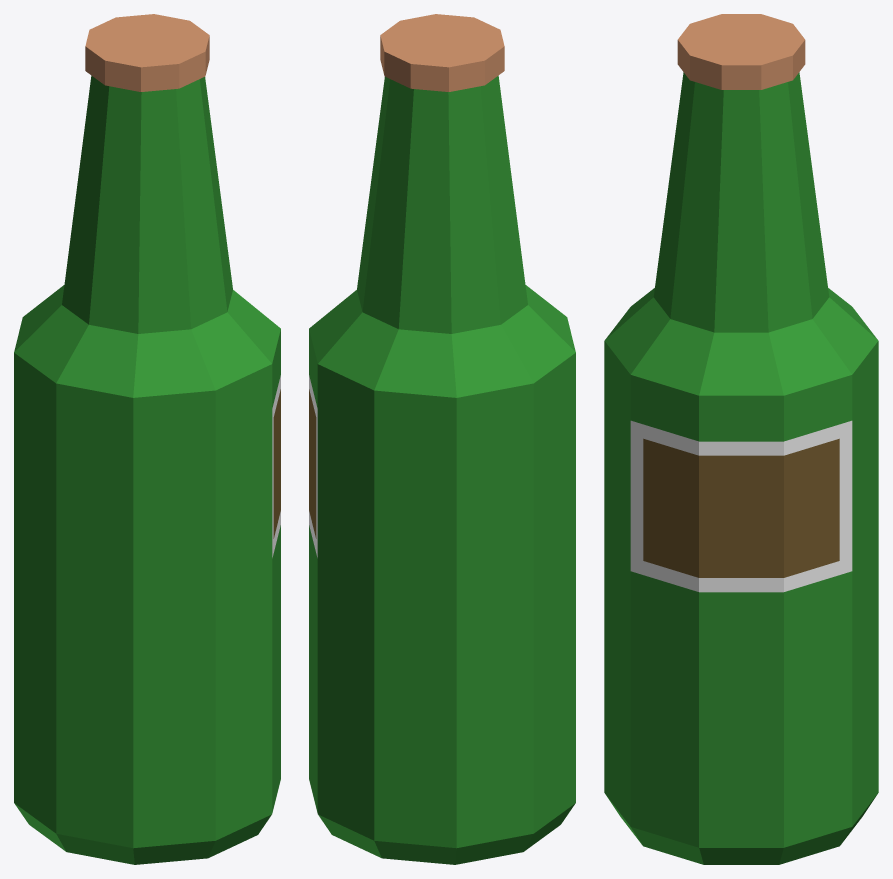
The model's file is Bottle.fbx.
3 renders of one model, left to right at view 1: azimuth 30°, elevation 25°; view 2: azimuth 150°, elevation 25°; view 3: azimuth 270°, elevation 25°, orthographic.
Parts seen in each view (by area): view 1: Cylinder; view 2: Cylinder; view 3: Cylinder.
Part boxes in pixels (x1=…): Cylinder: x1=14, y1=14, x2=280, y2=864; Cylinder: x1=309, y1=14, x2=575, y2=864; Cylinder: x1=604, y1=14, x2=878, y2=864.
Size of the model in its own units: 19.02 by 62.53 by 20.
